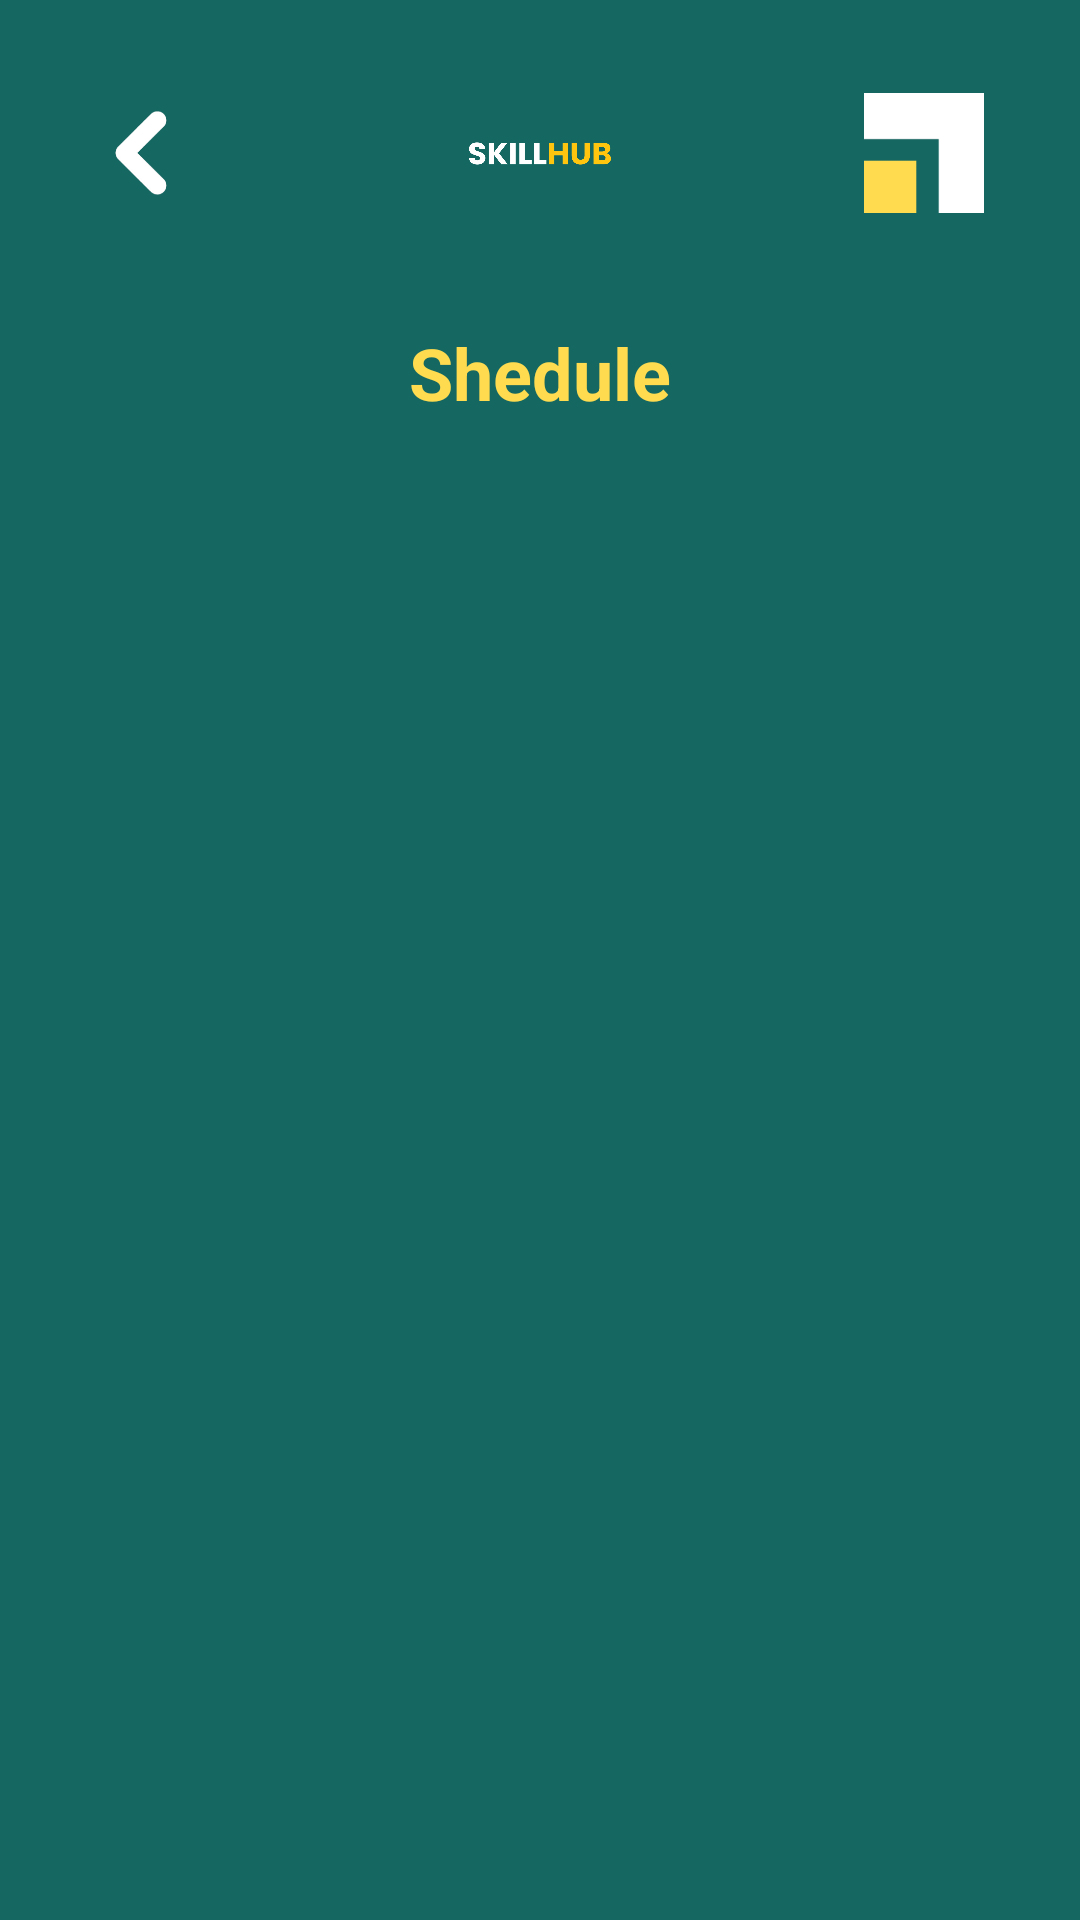

Named icons in this screenshot (1080 x 1920) and their bounding boxes, (x1, y1, x2, y2):
back: (115, 111, 167, 195)
